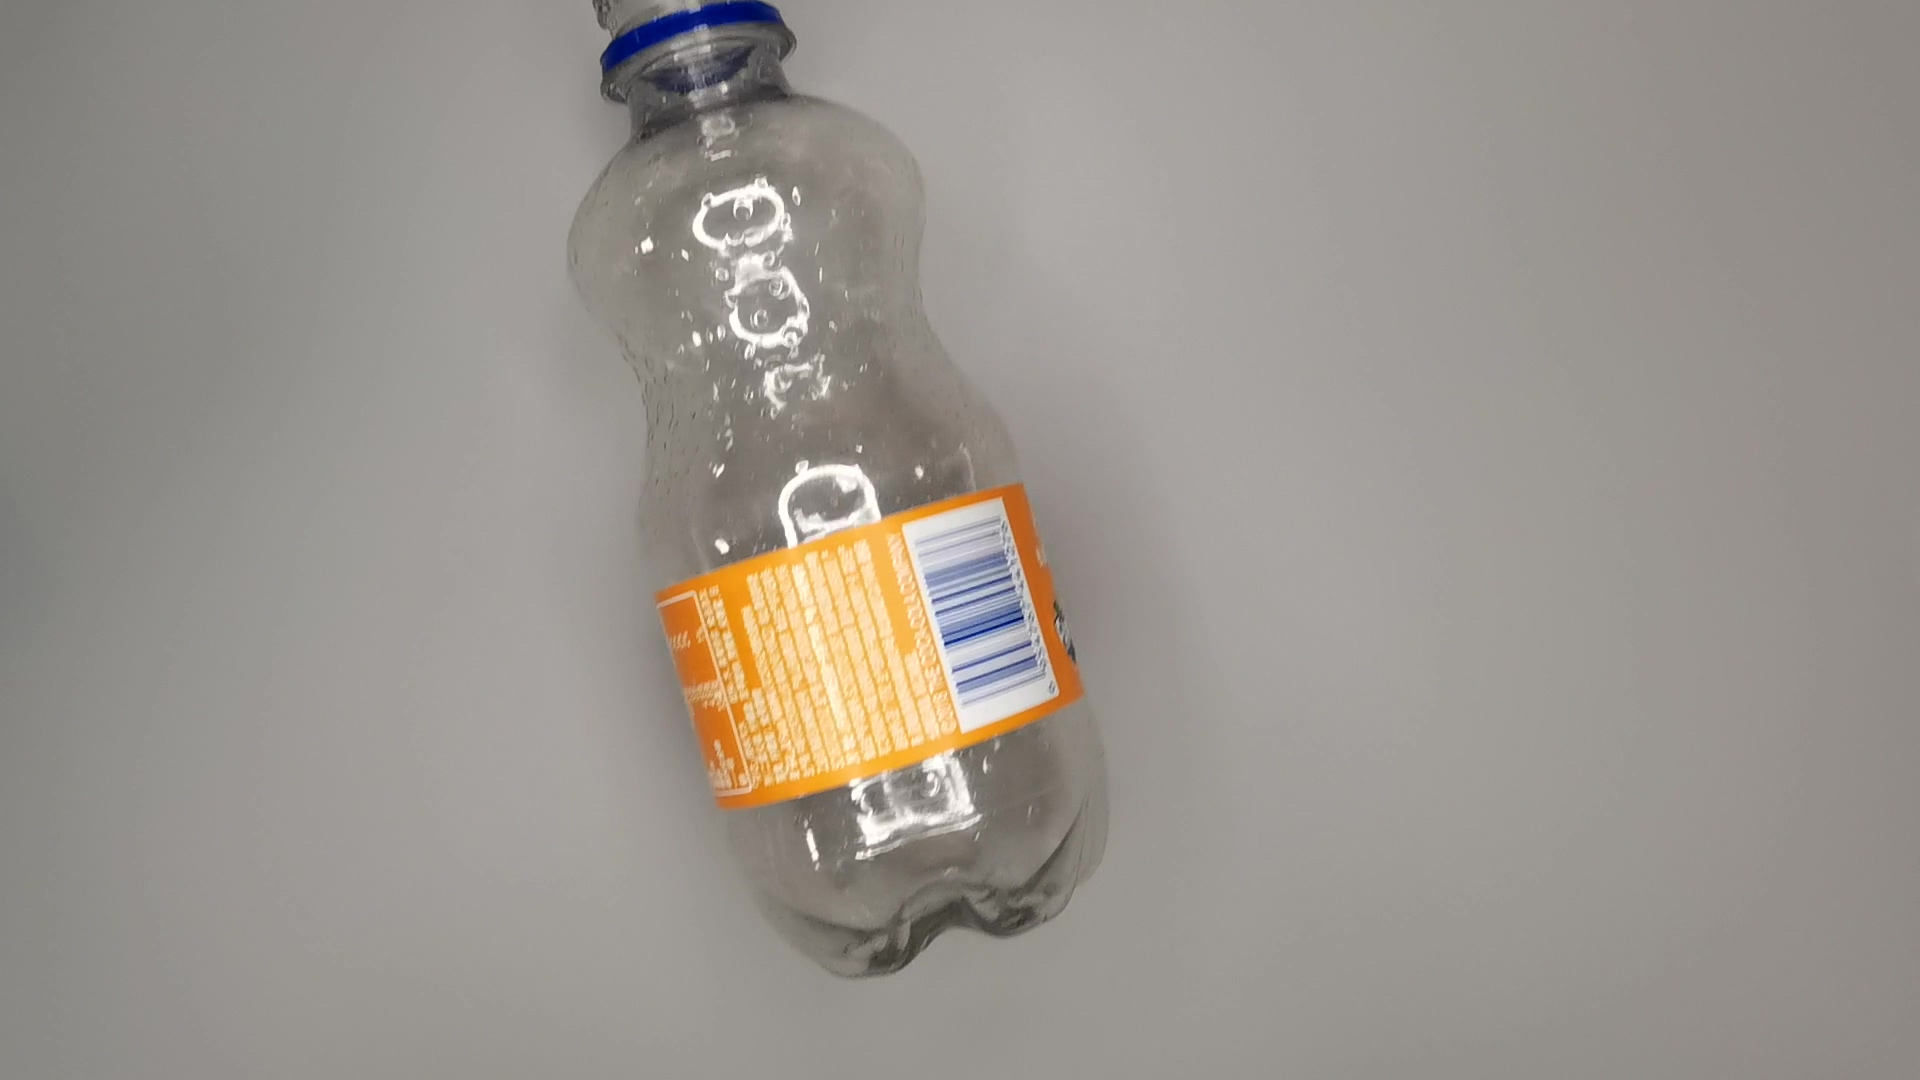bottle: (553, 1, 1120, 994)
